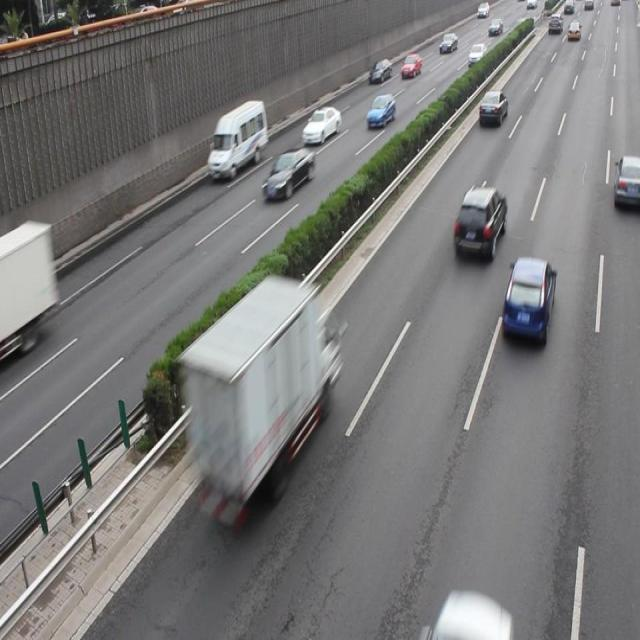bus: (186, 274, 335, 501), (1, 221, 60, 355)
car: (500, 254, 555, 349), (429, 586, 510, 640), (452, 182, 505, 262), (260, 144, 315, 200), (301, 105, 341, 146), (611, 153, 640, 206), (477, 87, 508, 128), (364, 92, 394, 130)
truck: (206, 99, 266, 181)
